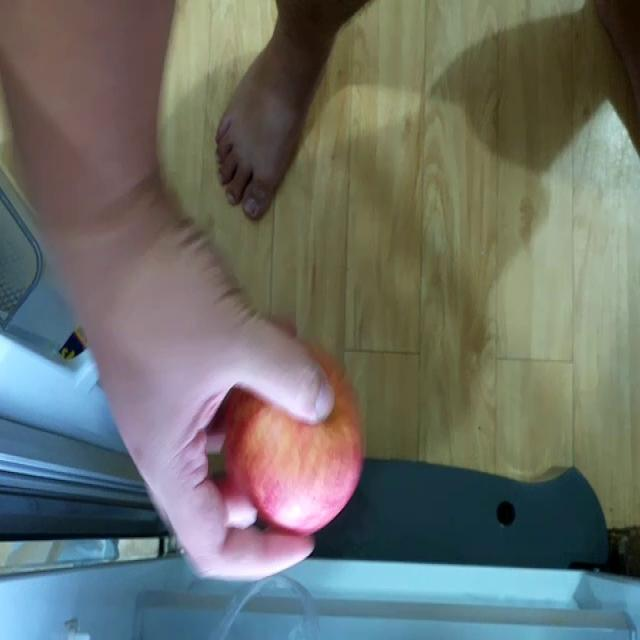apple: (220, 376, 367, 530)
